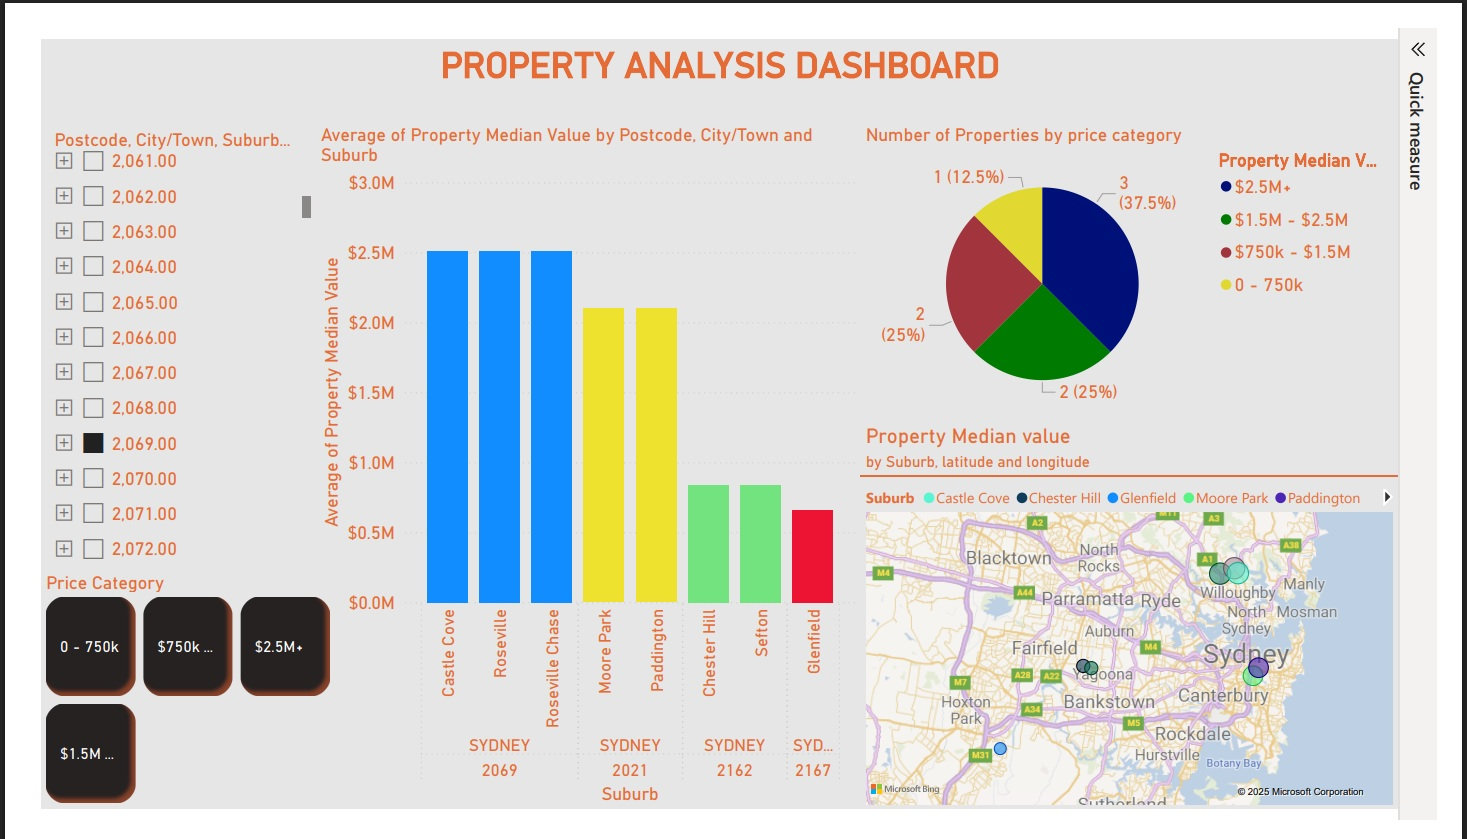

What the dashboard file says about the page in this screenshot:
{"tool":"powerbi","page":{"name":"Property Analysis Report","canvas":[1280,720],"ordinal":0},"visuals":[{"type":"clusteredColumnChart","title":"Average of Property Median Value by Postcode, City/Town and Suburb","fields":{"Category":["NSW_PropertyMedianValue.Postcode","NSW_PropertyMedianValue.City/Town","NSW_PropertyMedianValue.Suburb"],"Y":["Avg(NSW_PropertyMedianValue.Property_Median_Value)"]},"box":[266.7,118.3,510,601.7],"z":0},{"type":"slicer","fields":{"Values":["NSW_PropertyMedianValue.Postcode","NSW_PropertyMedianValue.City/Town","NSW_PropertyMedianValue.Suburb"]},"box":[10,118.3,256.7,380],"z":1000},{"type":"pieChart","title":"Number of Properties by price category","fields":{"Y":["CountNonNull(NSW_PropertyMedianValue.Suburb)"],"Category":["NSW_PropertyMedianValue.Price Category"]},"box":[776.7,118.3,503.3,241.7],"z":2000},{"type":"map","fields":{"X":["AUS_Post_suburb.longitude"],"Y":["AUS_Post_suburb.latitude"],"Series":["NSW_PropertyMedianValue.Suburb"],"Size":["Sum(NSW_PropertyMedianValue.Property_Median_Value)"]},"box":[776.7,370,503.3,350],"z":3000},{"type":"textbox","box":[0,0,1280.5,79.3],"z":3001},{"type":"advancedSlicerVisual","fields":{"Values":["NSW_PropertyMedianValue.Price Category"]},"box":[10,498.3,275,221.7],"z":3002}]}

Visuals, with their boxes on the page's 1280x720 design canvas (x1, y1, x2, y2). These are canvas units, not pixel positions in the 1467x839 screenshot, which may show the page scaled, cropped or inside an application window:
"Average of Property Median Value by Postcode, City/Town and Suburb" clusteredColumnChart: <region>267, 118, 777, 720</region>
slicer - NSW_PropertyMedianValue.Postcode x NSW_PropertyMedianValue.City/Town: <region>10, 118, 267, 498</region>
"Number of Properties by price category" pieChart: <region>777, 118, 1280, 360</region>
map - AUS_Post_suburb.longitude x AUS_Post_suburb.latitude: <region>777, 370, 1280, 720</region>
textbox: <region>0, 0, 1280, 79</region>
advancedSlicerVisual - NSW_PropertyMedianValue.Price Category: <region>10, 498, 285, 720</region>
